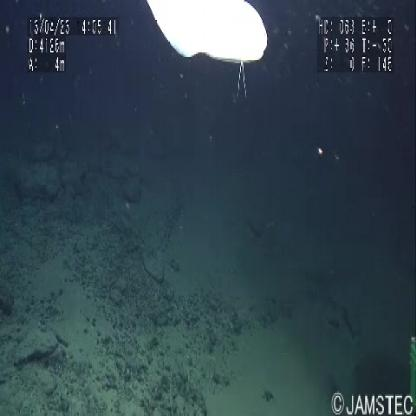Bio: (146, 1, 271, 104)
